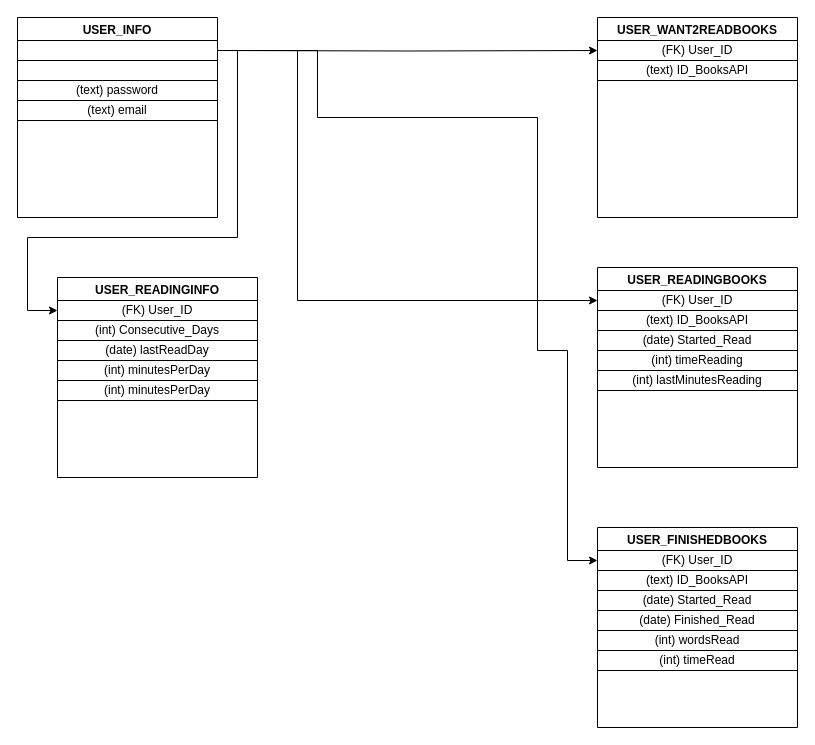
Some shapes in this 815 by 745 pixel diagram are drawn without their labels. The centre of each missing label's shape, as x and y in pixels:
(increments) ID: the point at 117,50
(text) name: the point at 117,70
